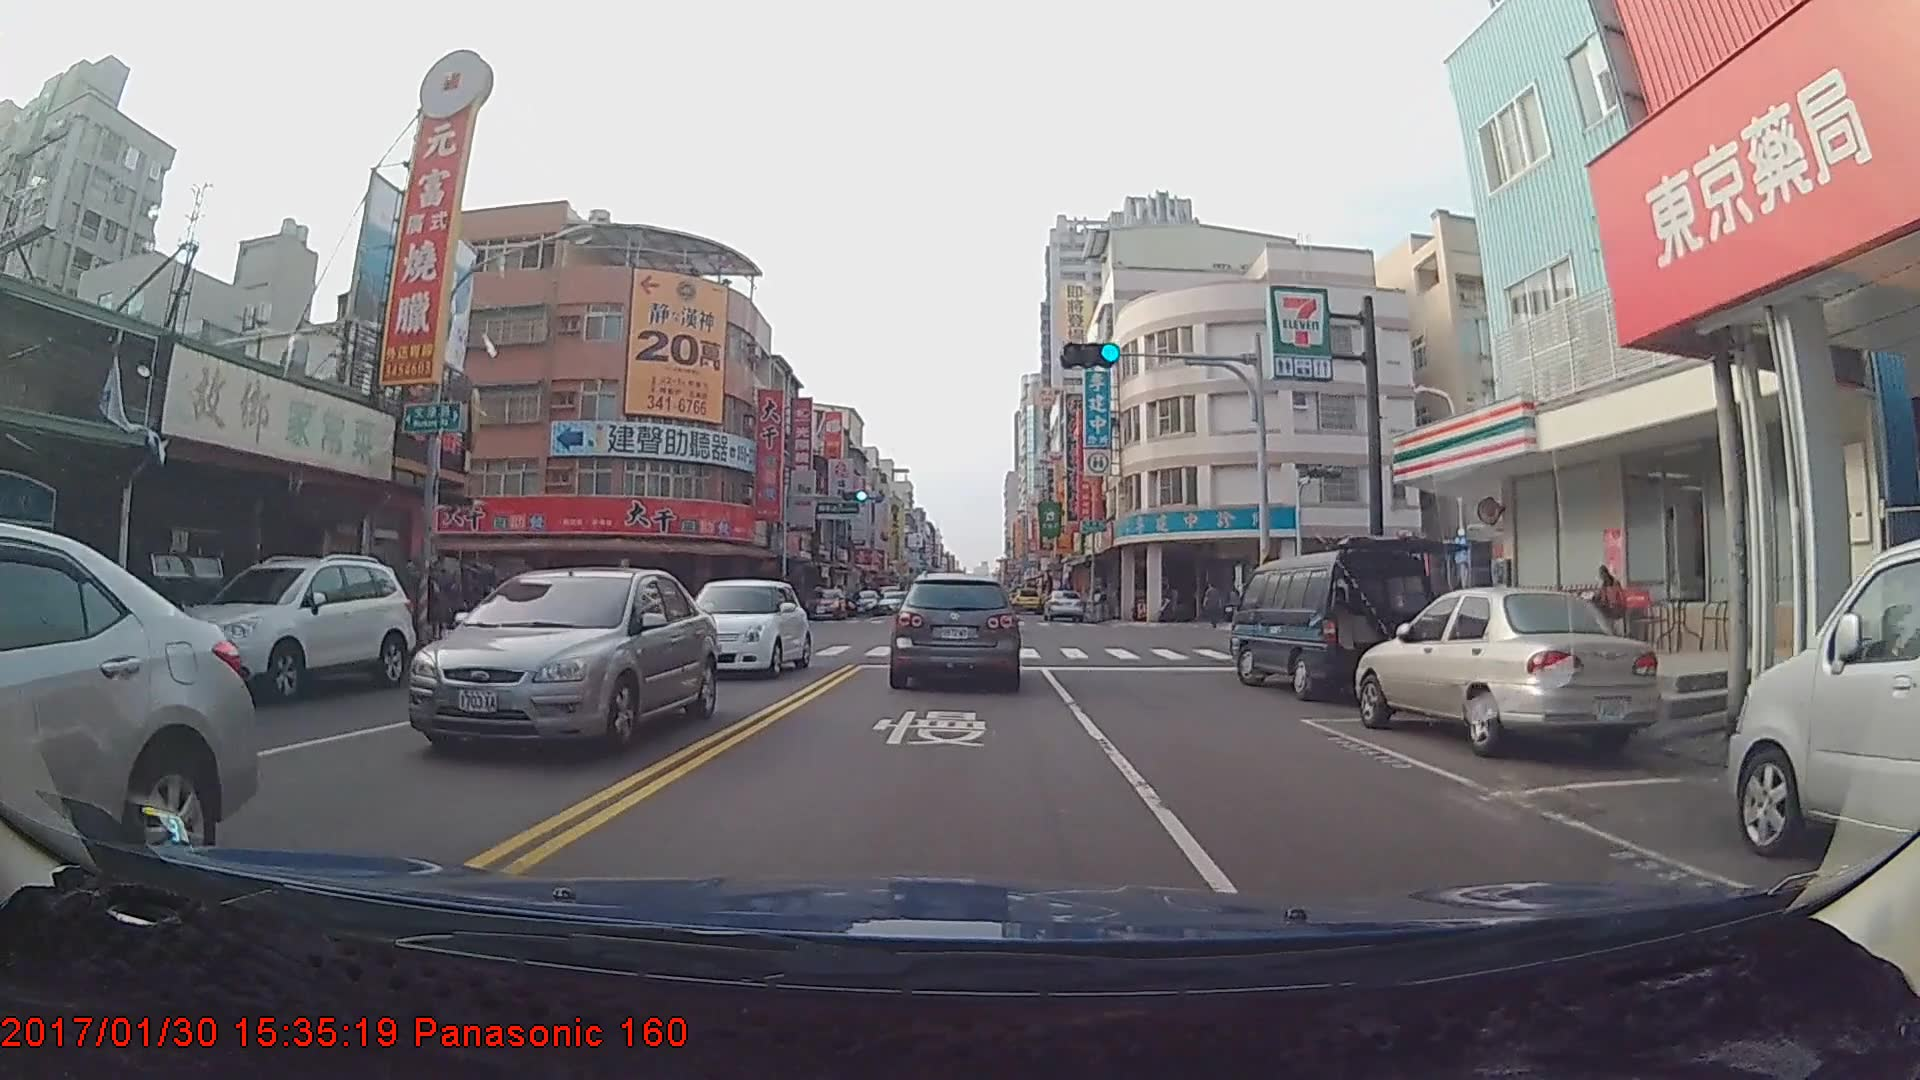pedestrian: (1205, 584, 1226, 633)
vehicle: (0, 528, 252, 949), (1730, 546, 1920, 866), (405, 563, 719, 757), (1359, 582, 1652, 754), (173, 549, 414, 703), (1228, 549, 1440, 703), (891, 571, 1021, 689), (671, 577, 809, 679), (1043, 588, 1084, 624), (805, 585, 846, 620), (846, 591, 882, 616), (1012, 587, 1041, 612)
